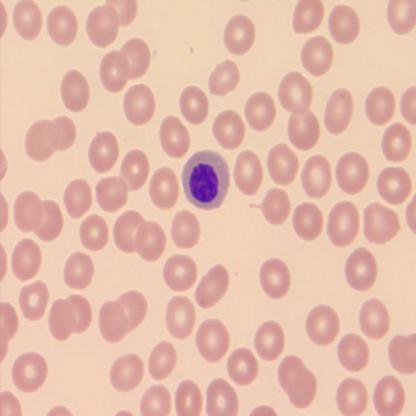NRC: (180, 149, 230, 210)
